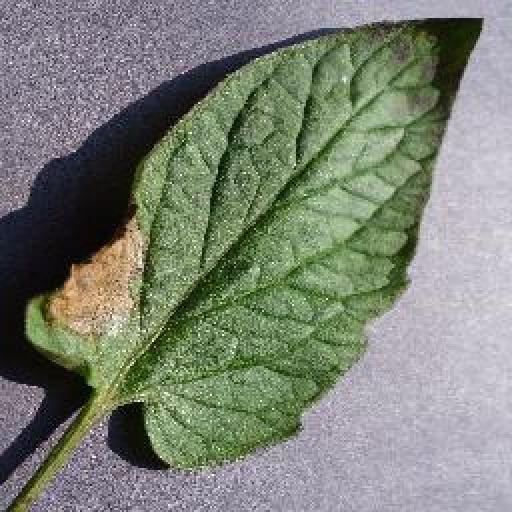Late Blight: (25, 16, 488, 471)
